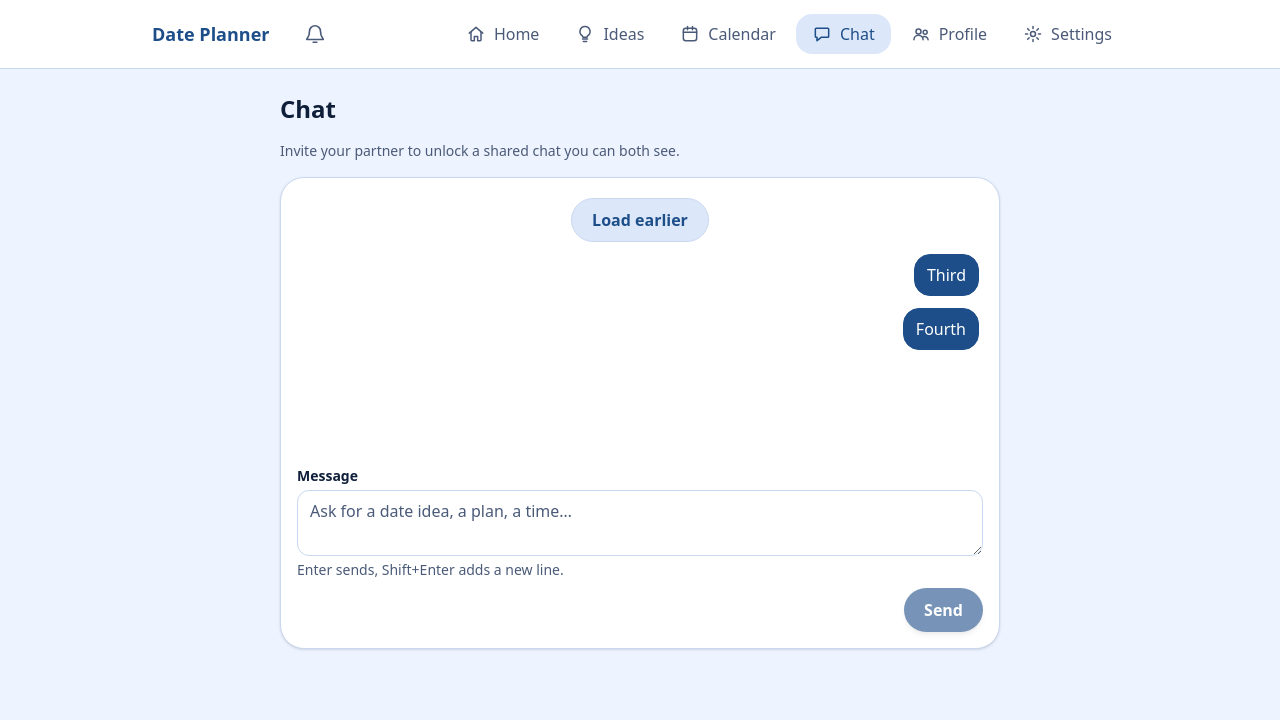
ChatPage history › loads earlier messages above the current ones, paging by the oldest id
This screenshot has width=1280, height=720.
Check: the text "Fourth" is shown, box 903,308 -> 979,350
Click the button "Load earlier": (640,220) 571,198 -> 709,242
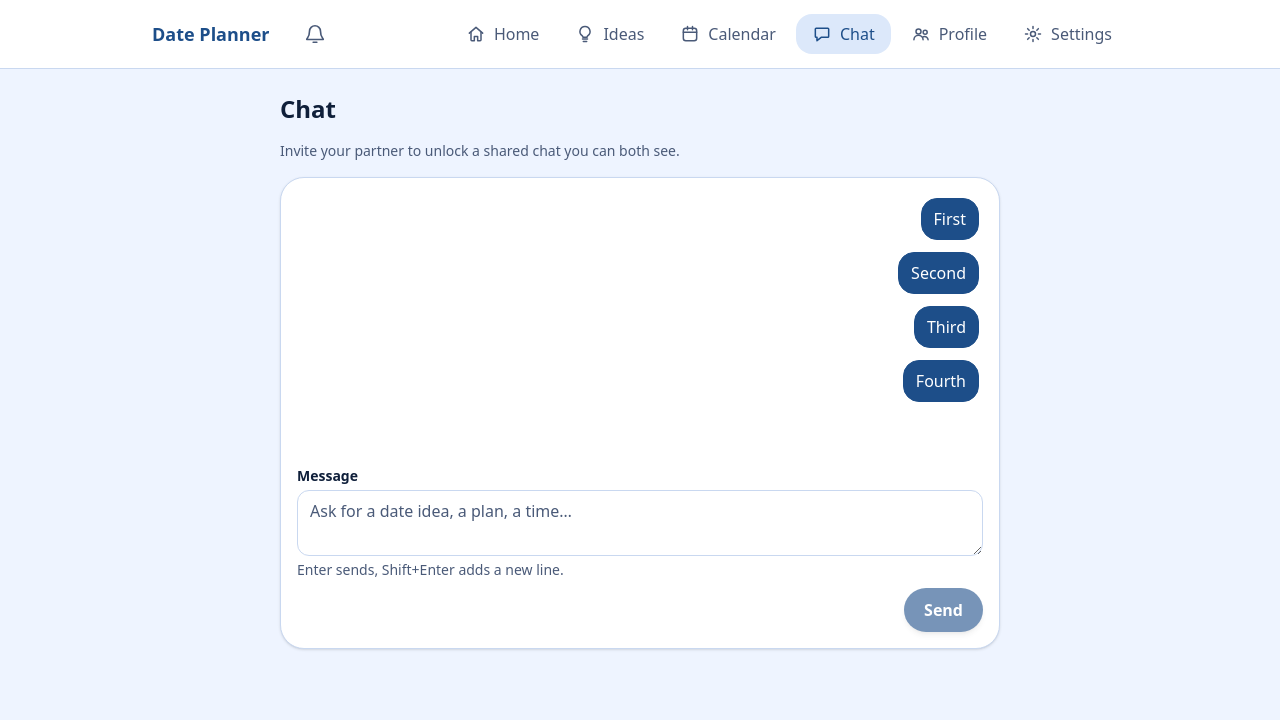
Check: the text "First" is shown, box 920,198 -> 979,240
Check: the button "Load earlier" is gone
